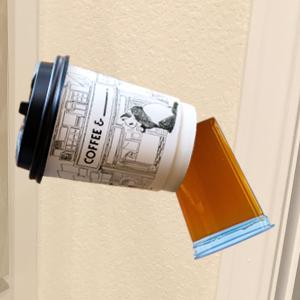cup: (10, 56, 197, 193)
